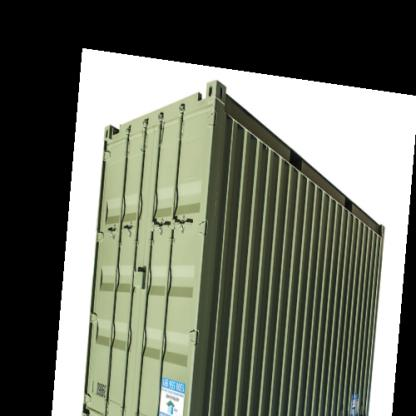Damage: (212, 162, 231, 226)
